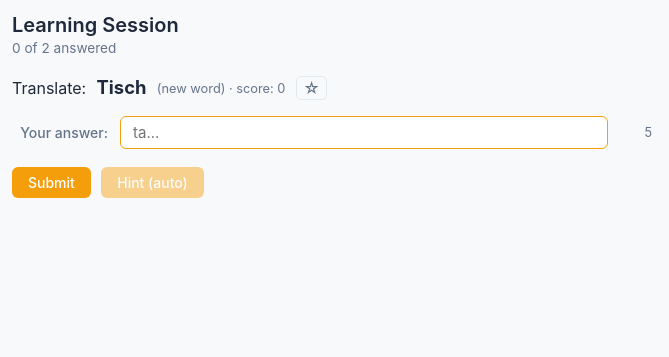
TrainingScreen › advances the form immediately to the next word after a wrong answer
In the field named "Your answer:": (364, 132) [120,116,608,149], type "wrong"
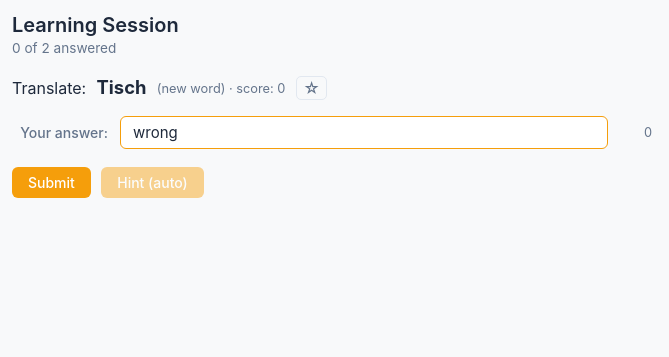
Click the button "Submit": (51, 183) [12,167,91,198]
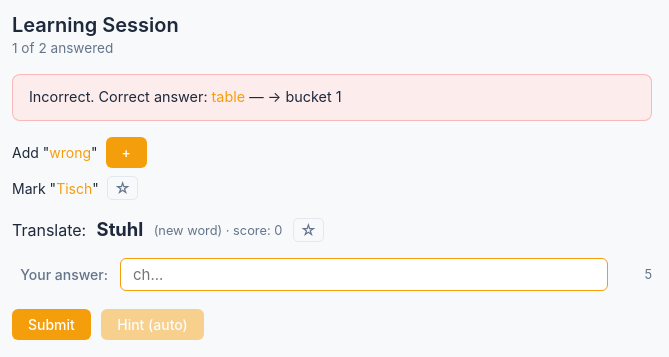
Expected: the text "Stuhl" is shown, [97,216,143,244]
Expected: the message reads "Incorrect. Correct answer: table — → bucket 1", [12,74,652,121]
